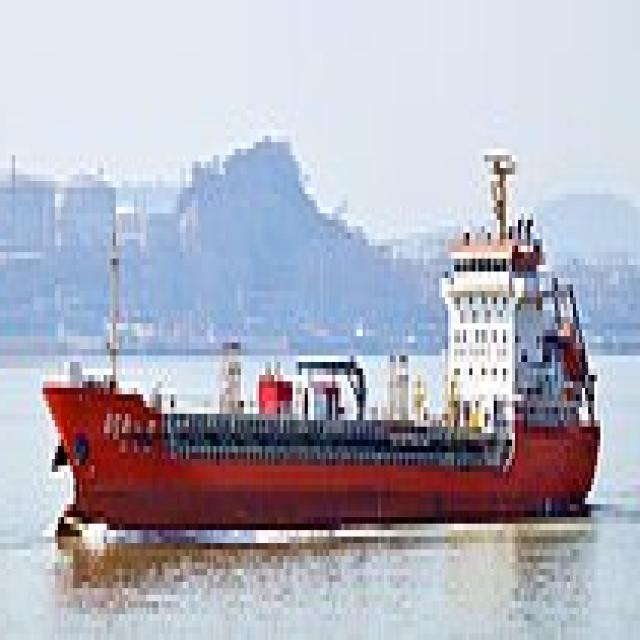Tanker: (39, 136, 606, 524)
